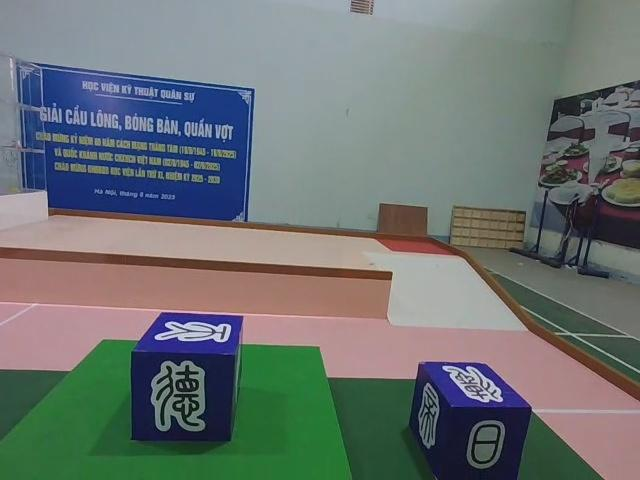R2 Fake Blue: (132, 311, 247, 445), (409, 363, 532, 480)
